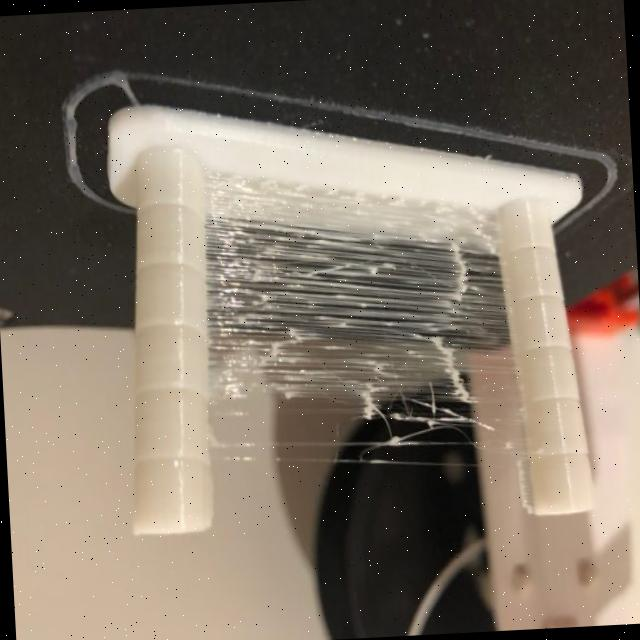stringing: (214, 174, 533, 471)
